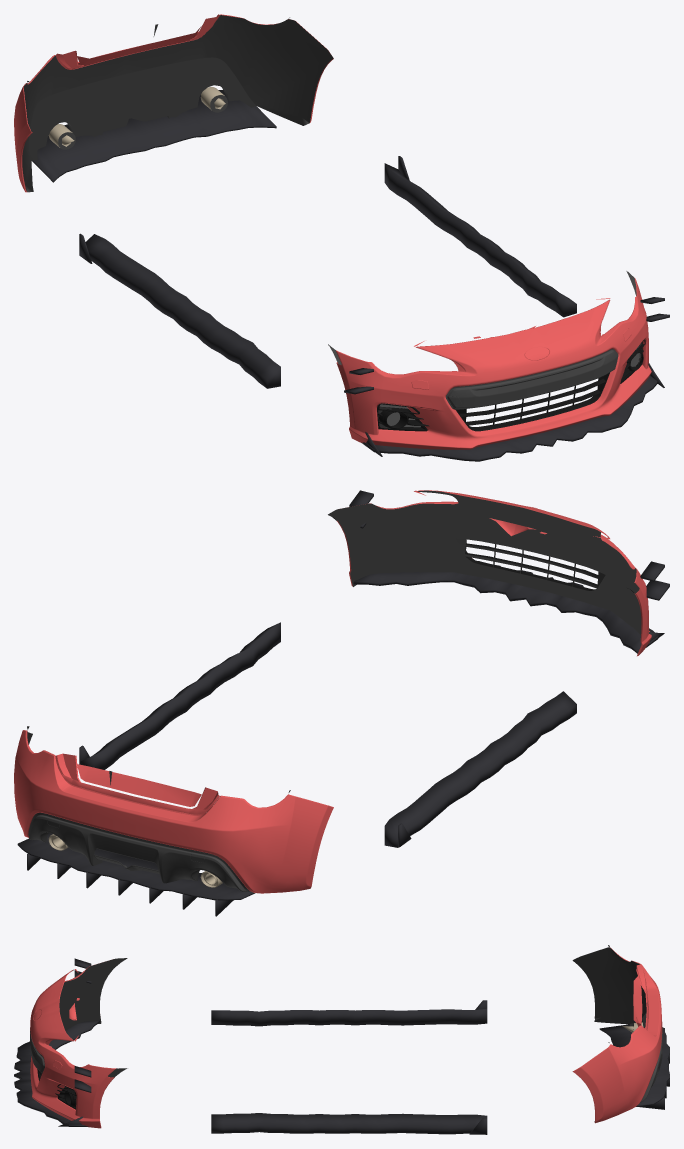
The model's file is bodykit-track.glb.
3 views of the same model, one above another, from view 1: azimuth 30°, elevation 25°; view 2: azimuth 150°, elevation 25°; view 3: azimuth 270°, elevation 25° (orthographic). The views are drawn at different scales.
Parts seen in each view (by area): view 1: track_bumper_front, track_bumper_rear, track_diffuser, tskirt_R, tskirt_L, track_splitter, track_canards; view 2: track_bumper_rear, track_bumper_front, tskirt_R, track_diffuser, tskirt_L, track_splitter, track_canards; view 3: track_bumper_rear, track_bumper_front, tskirt_L, tskirt_R, track_splitter, track_diffuser, track_canards.
Part boxes in pixels (x1,y1,x2,y2): track_bumper_front: [328, 271, 651, 449]; track_bumper_rear: [14, 14, 333, 192]; track_diffuser: [32, 90, 276, 182]; tskirt_R: [79, 233, 280, 388]; tskirt_L: [384, 156, 576, 317]; track_splitter: [361, 376, 657, 461]; track_canards: [344, 297, 669, 456]; track_bumper_rear: [14, 726, 333, 893]; track_bumper_front: [328, 490, 651, 656]; tskirt_R: [384, 691, 576, 847]; track_diffuser: [17, 832, 255, 916]; tskirt_L: [79, 622, 280, 769]; track_splitter: [353, 561, 658, 653]; track_canards: [349, 490, 669, 641]; track_bumper_rear: [572, 945, 662, 1123]; track_bumper_front: [30, 958, 127, 1128]; tskirt_L: [211, 1113, 487, 1134]; tskirt_R: [211, 1000, 487, 1026]; track_splitter: [14, 1020, 100, 1126]; track_diffuser: [599, 1024, 669, 1109]; track_canards: [58, 958, 91, 1126].
Size of the model in its own units: 1.87 by 0.62 by 4.4.
